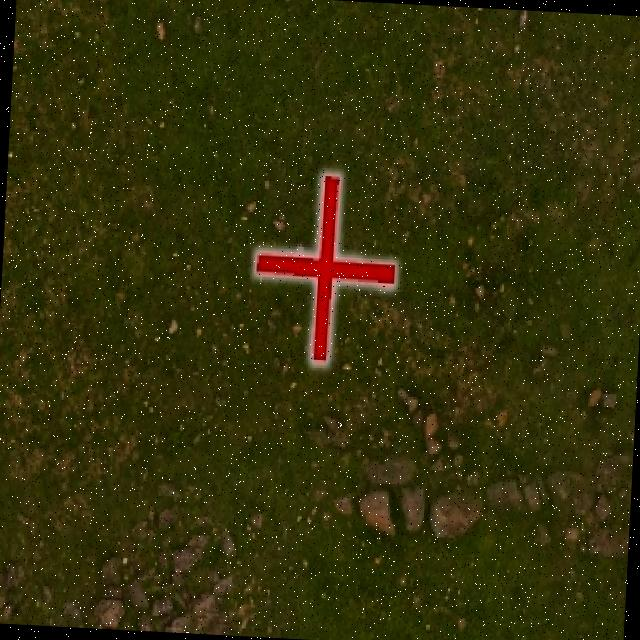x_marker: (251, 172, 398, 364)
